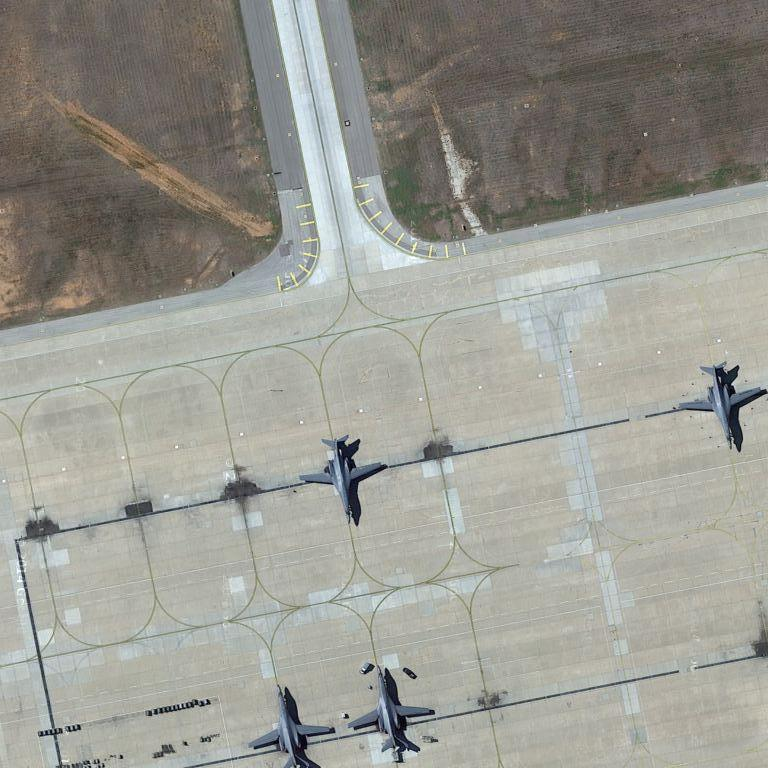B-1B: (677, 354, 766, 452), (296, 426, 384, 521), (348, 665, 437, 754), (247, 685, 335, 768)
